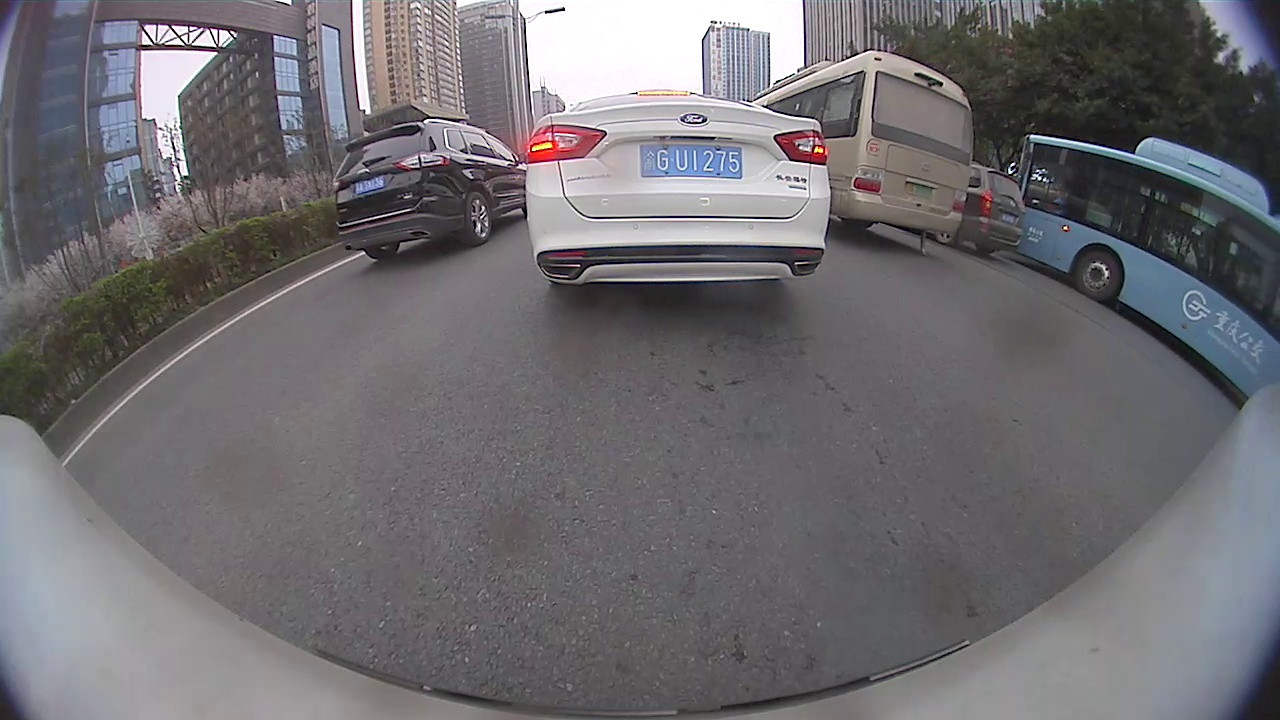bus: (1013, 132, 1278, 396), (749, 49, 969, 240)
car: (528, 86, 830, 287), (335, 118, 527, 258), (955, 162, 1026, 258)
front: (1073, 247, 1122, 305)
rear: (464, 191, 493, 244)
